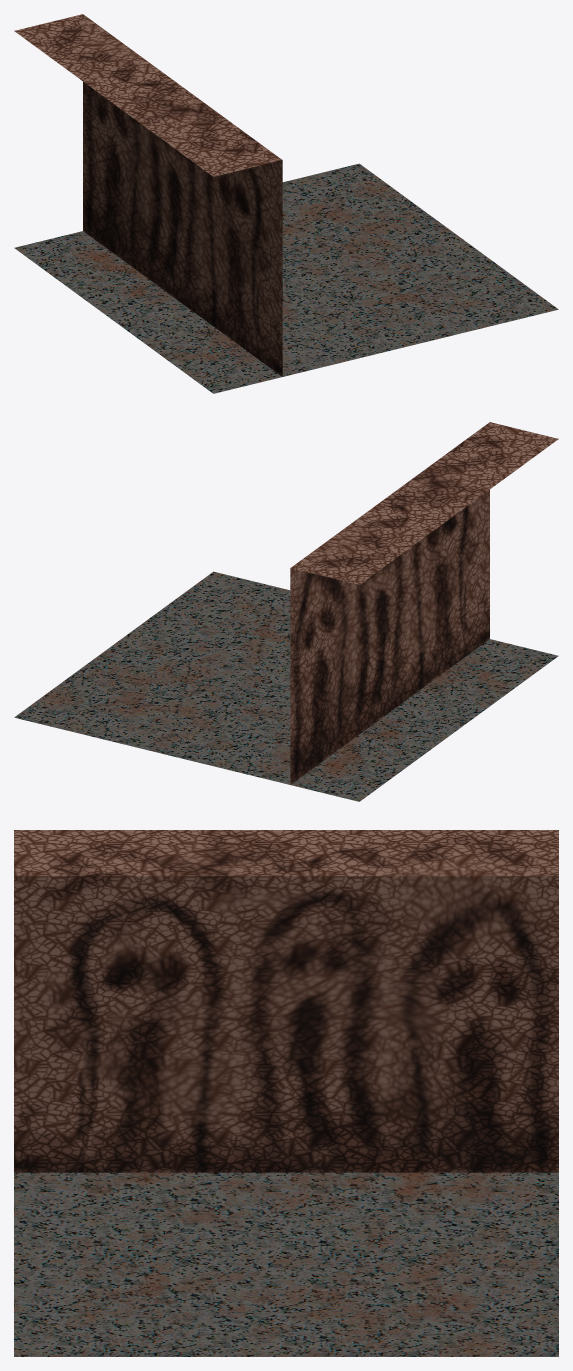
Rendered from Long_wall.fbx.
3 views of the same model, one above another, from view 1: azimuth 30°, elevation 25°; view 2: azimuth 150°, elevation 25°; view 3: azimuth 270°, elevation 25° (orthographic). The views are drawn at different scales.
Parts seen in each view (by area): view 1: Long_wall; view 2: Long_wall; view 3: Long_wall.
Boxes of the visible parts, x1,y1,x2,y2 form: Long_wall: [14, 14, 558, 393]; Long_wall: [14, 422, 558, 801]; Long_wall: [14, 830, 558, 1356].
Size of the model in its own units: 100 by 60 by 100.
1 material, 1 textured.
